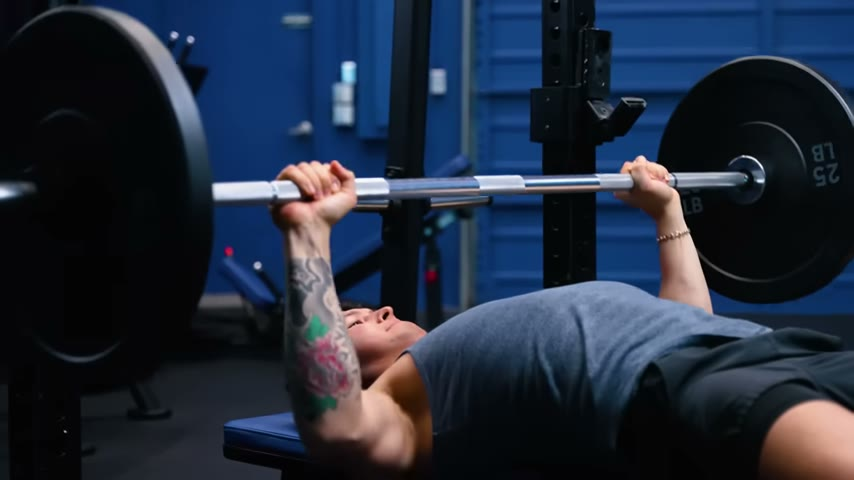barbell_plate_side: (2, 7, 219, 403), (90, 2, 223, 409)
